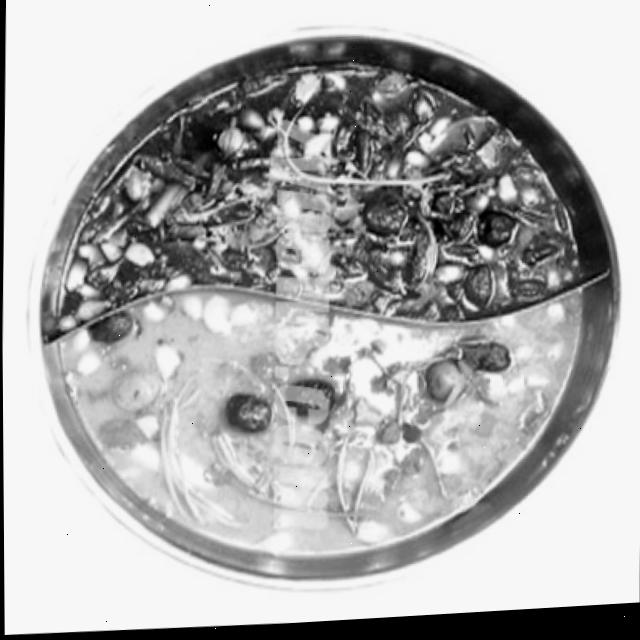汤锅炖物: (31, 0, 631, 608)
